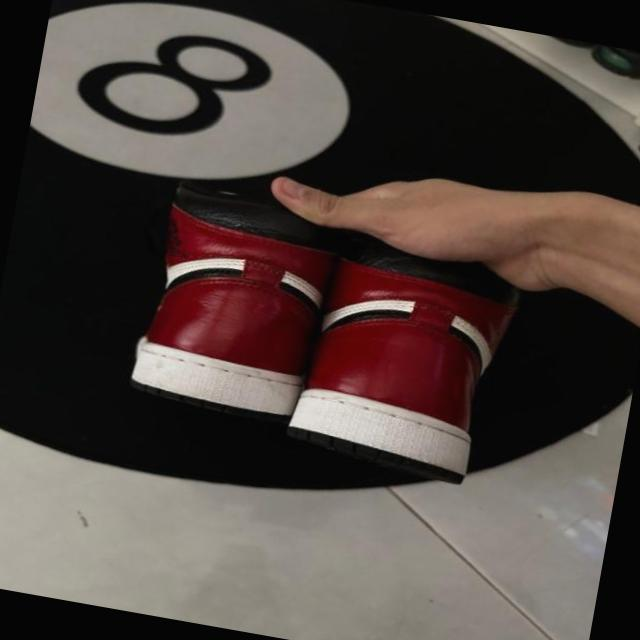nike_original_jordan: (272, 218, 521, 492), (114, 166, 354, 428)
